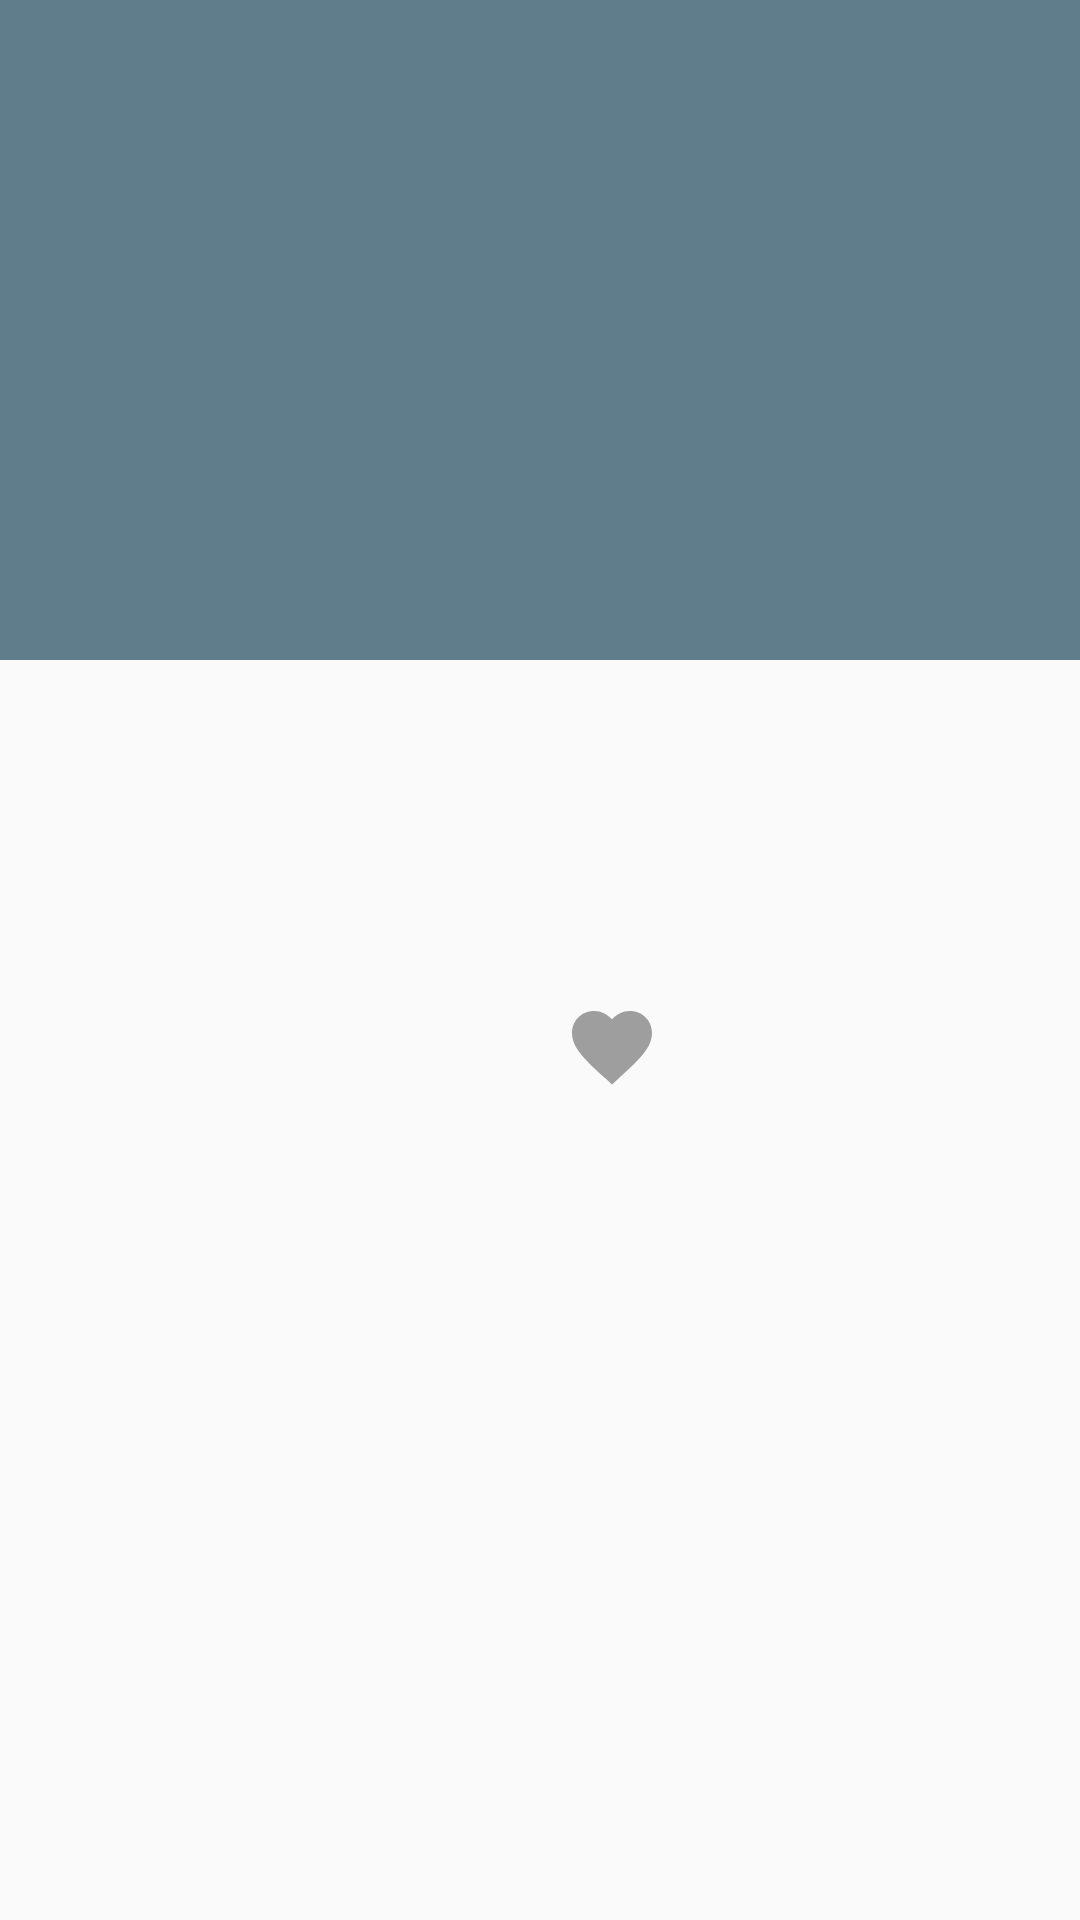

Icon click points for this 1080x1920 phone screenshot, format point (x, y):
favorite: point (612, 1047)
